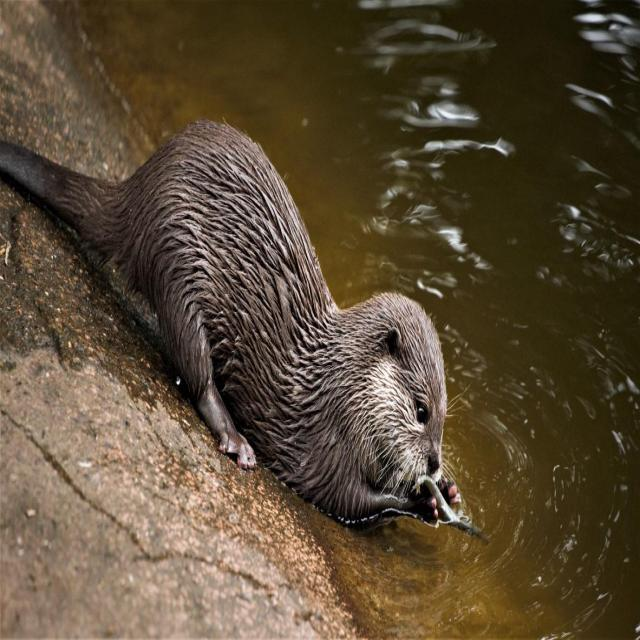Otter: (0, 119, 448, 530)
